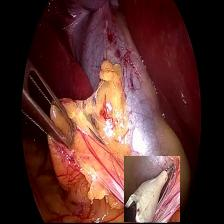Grasper: (20, 52, 76, 160)
Hook: (124, 156, 180, 223)
